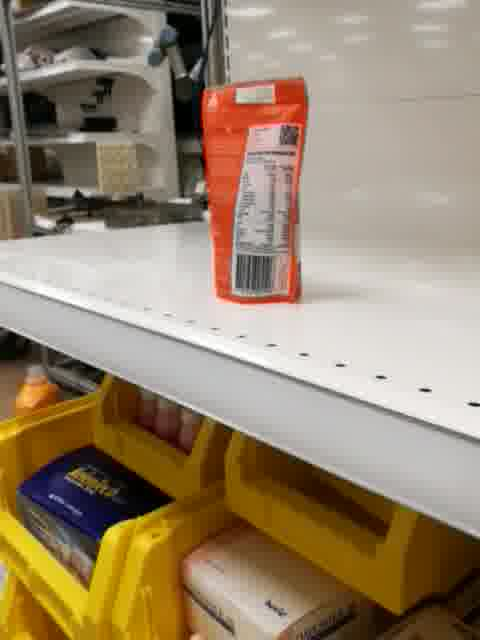whitechia: (196, 75, 317, 308)
